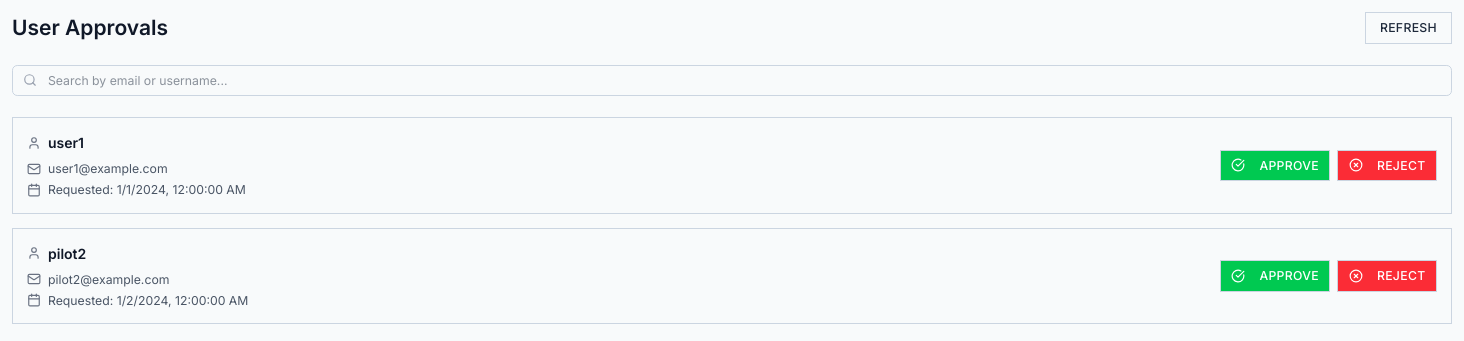
Test: UserApprovalPanel › shows empty state when search has no matches
Expected: the text "user1" is shown, [48,132,84,153]
In the field with placeholder "Search by email or username...": point(732, 80) [12,64,1452,96], type "no-match"
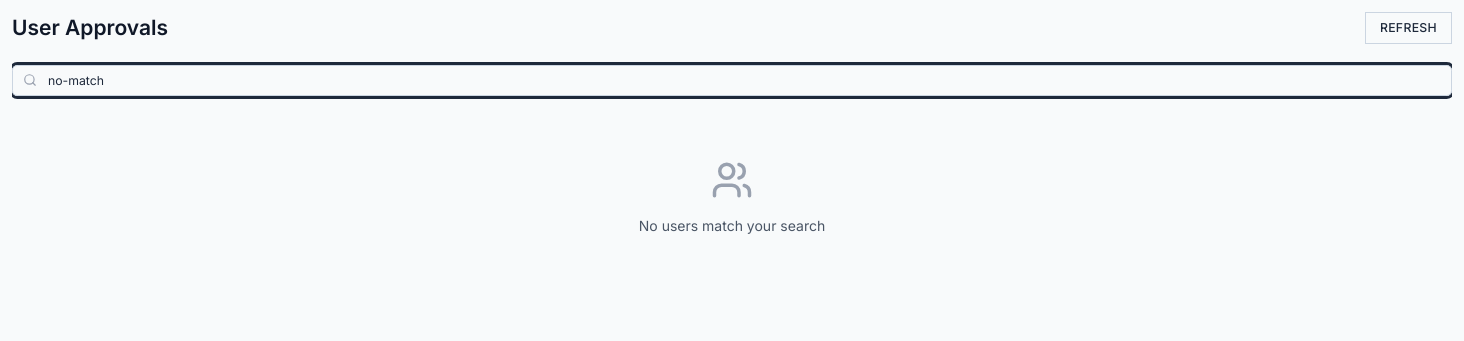
Expected: the text "No users match your search" is shown, [639,217,825,234]
